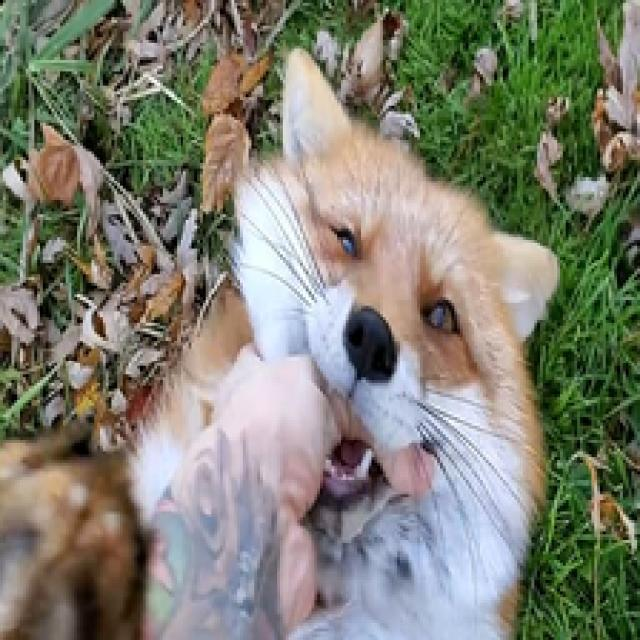fox: (5, 56, 541, 640)
